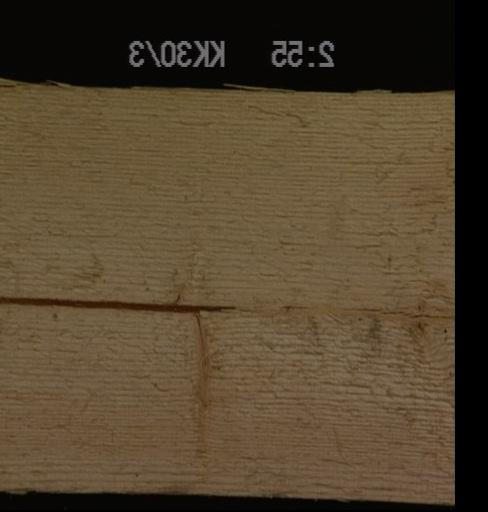split: (210, 294, 451, 321)
